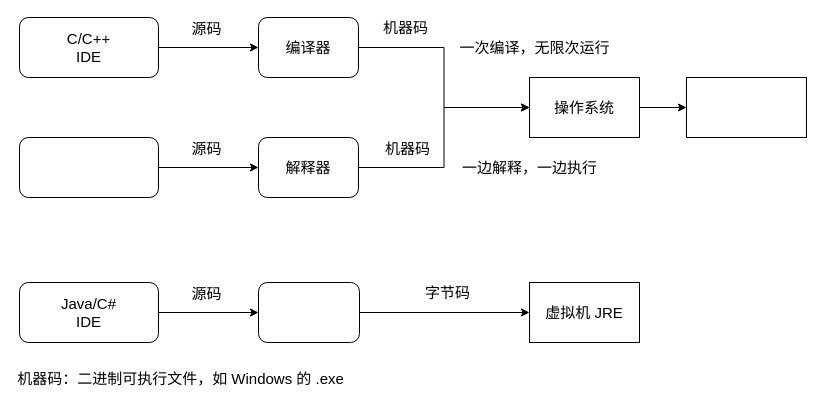
The diagram is 824 pixels wide and 405 high, and some of its shapes have lost their labels. The shapes that lost their labels are listed below. From the top down, each one's centre as x and y in pixels, then its label:
At (x=746, y=107): "CPU".
At (x=88, y=167): "Python/Javascript IDE".
At (x=309, y=312): "编译器 JDK".
